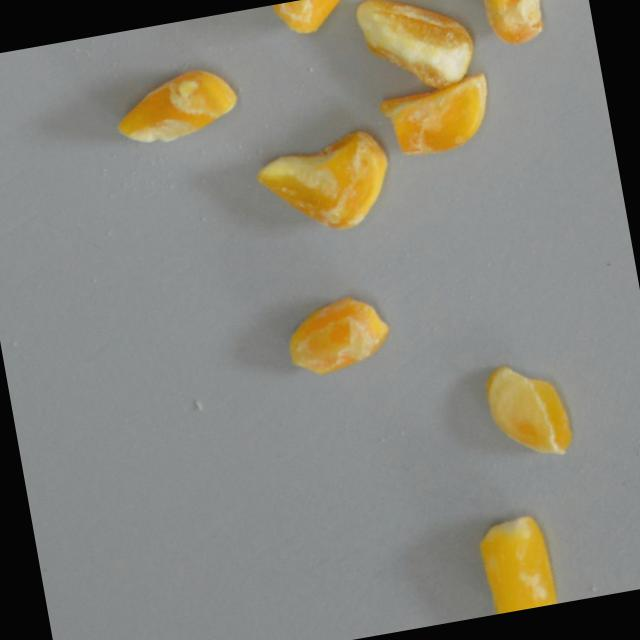pelicula: (267, 111, 388, 257), (352, 0, 478, 97), (394, 52, 486, 182), (466, 363, 586, 457), (133, 41, 214, 175), (457, 521, 574, 611), (293, 278, 375, 393), (273, 0, 378, 45), (474, 0, 568, 44)
